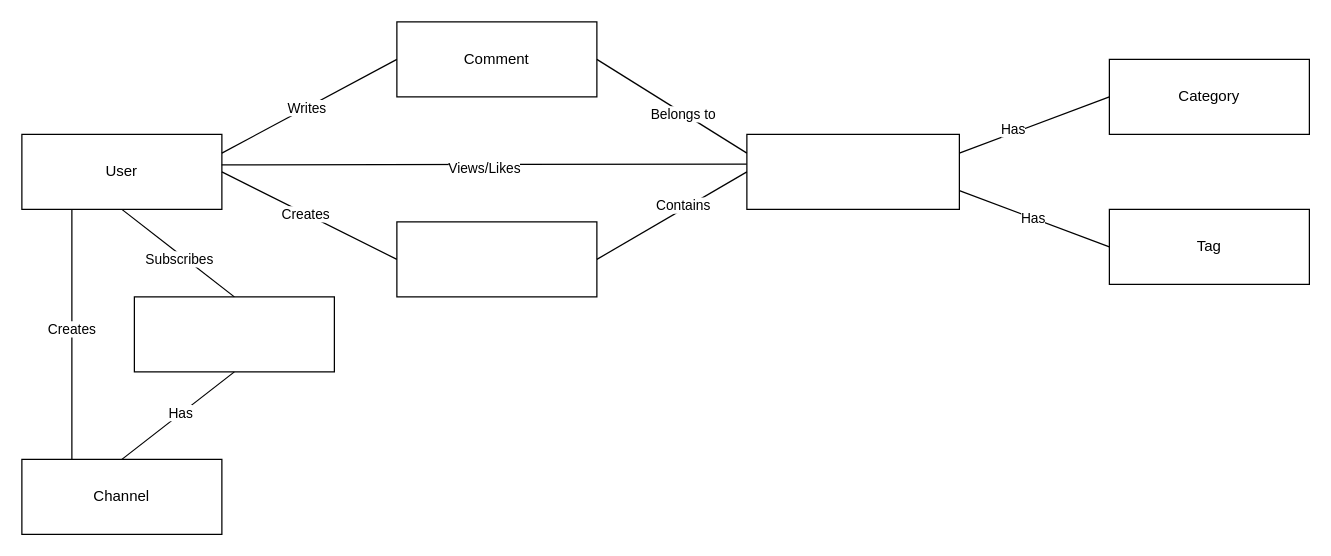
This 1331x556 diagram has some shape labels left out. The centre of each missing label's shape, as x and y in pixels:
"Playlist" belongs at point (496, 259).
"Subscription" belongs at point (233, 334).
"Video" belongs at point (852, 171).
